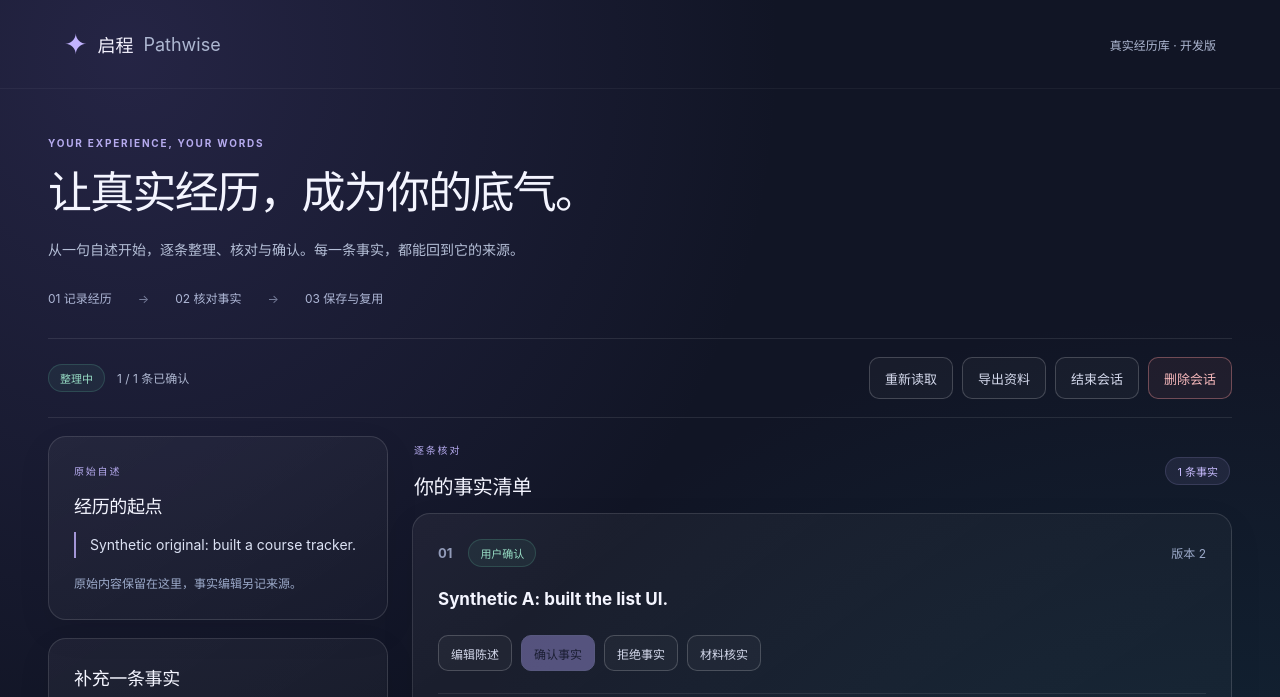
Scenario: experience workspace with recorded FastAPI contracts › requires separate confirmation after editing and traces the new source
Click the button "编辑陈述" at (475, 653), box [438,635,512,671]
(page scrolled)
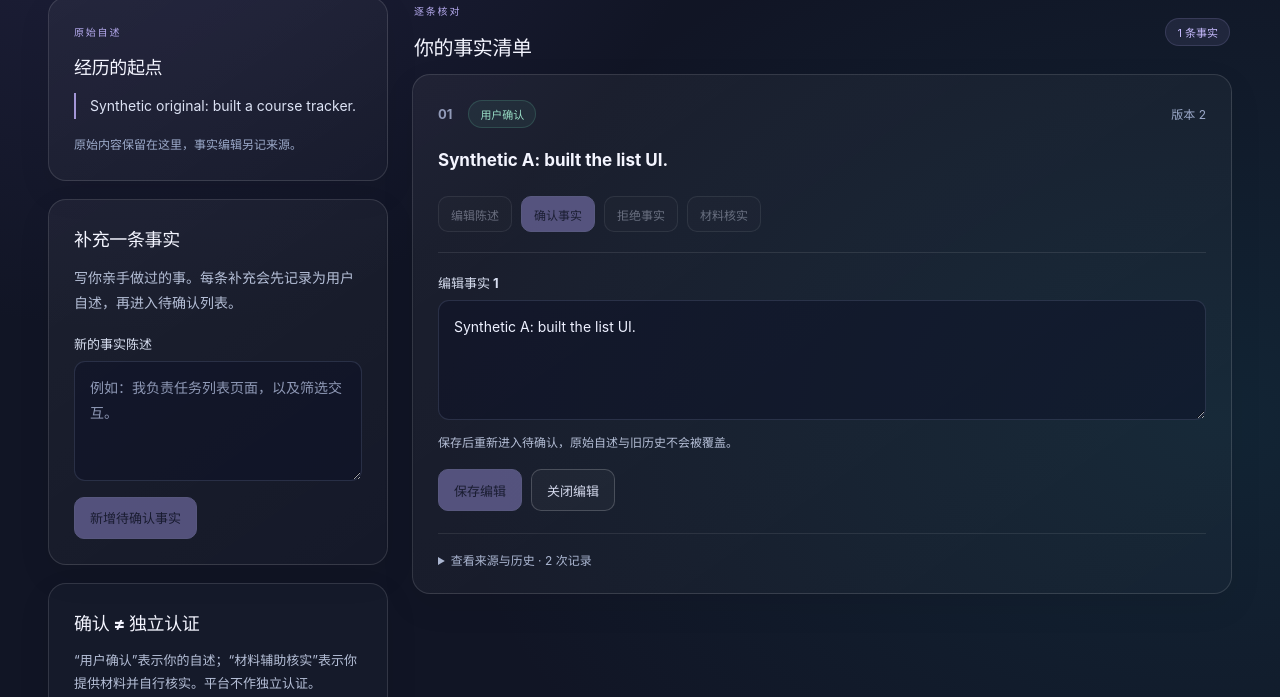
Replace the text in the text box labelled "编辑事实 1" with "Synthetic B: built the deployment script." at (822, 360), box [438,300,1206,420]
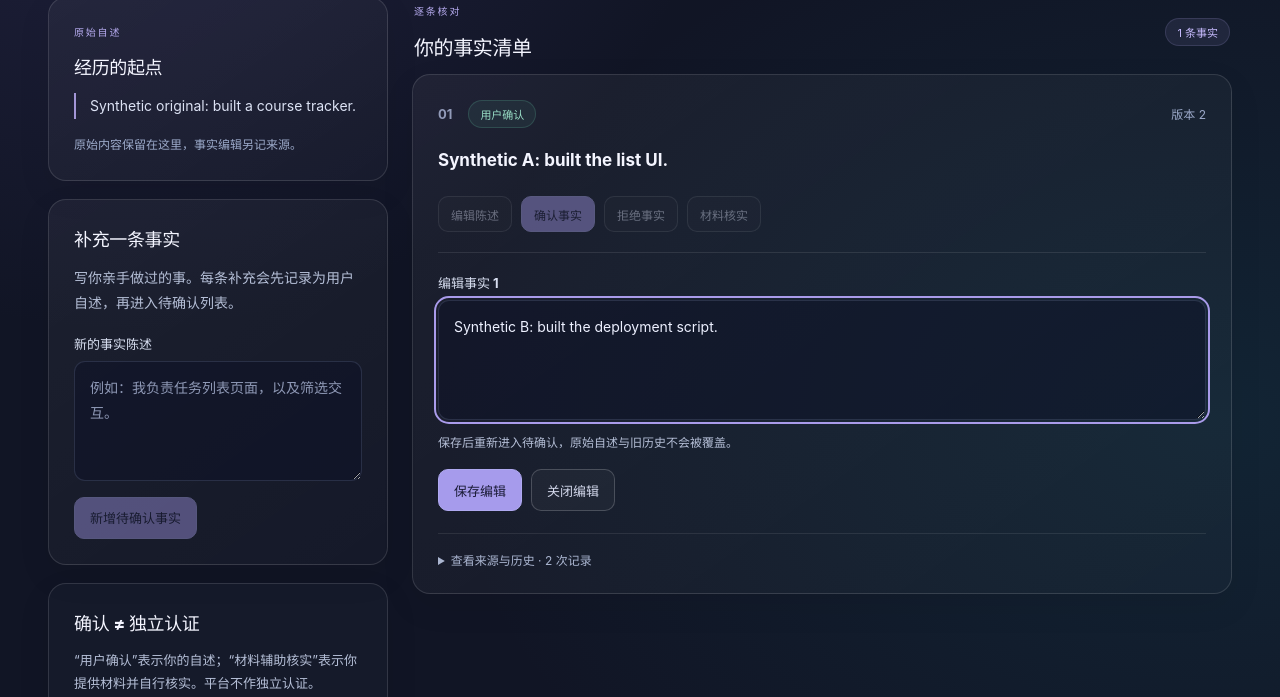
Check: the button "确认事实" is disabled, box [521,196,595,232]
Click the button "保存编辑" at (480, 490), box [438,469,522,511]
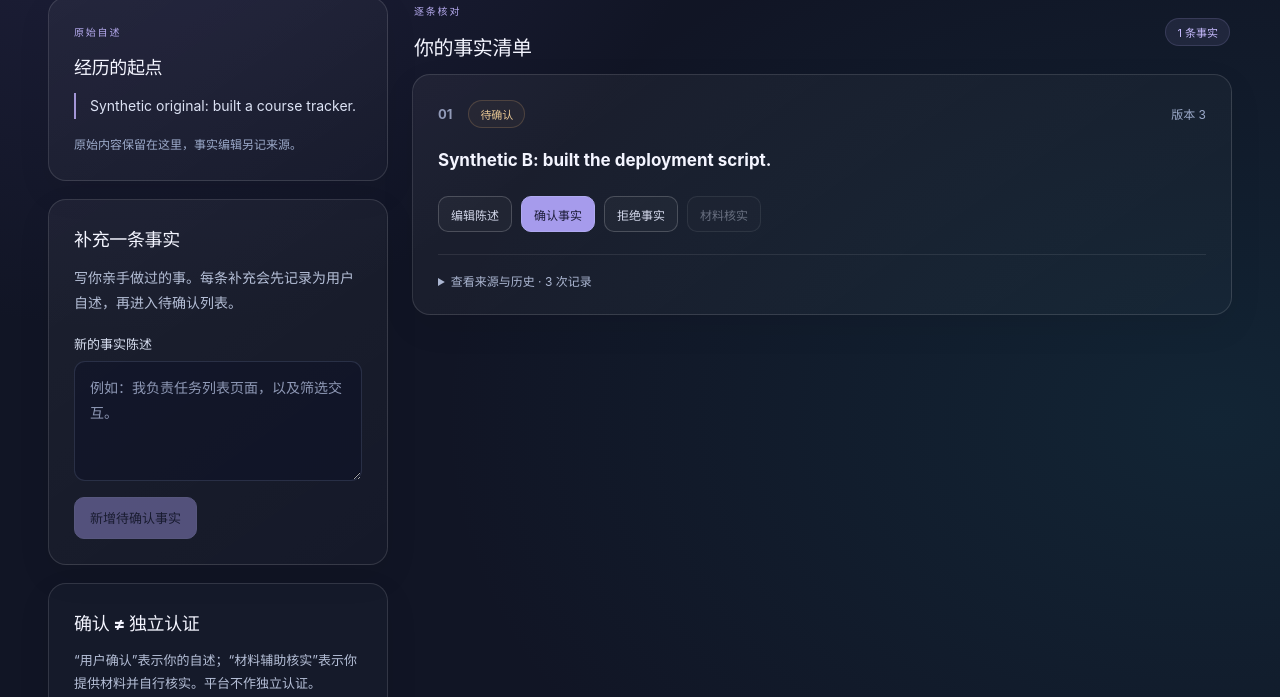
Check: the label labelled "编辑事实 1" is gone
Check: the text "待确认" is shown, box [468,100,525,128]
Click the button "确认事实" at (558, 214), box [521,196,595,232]
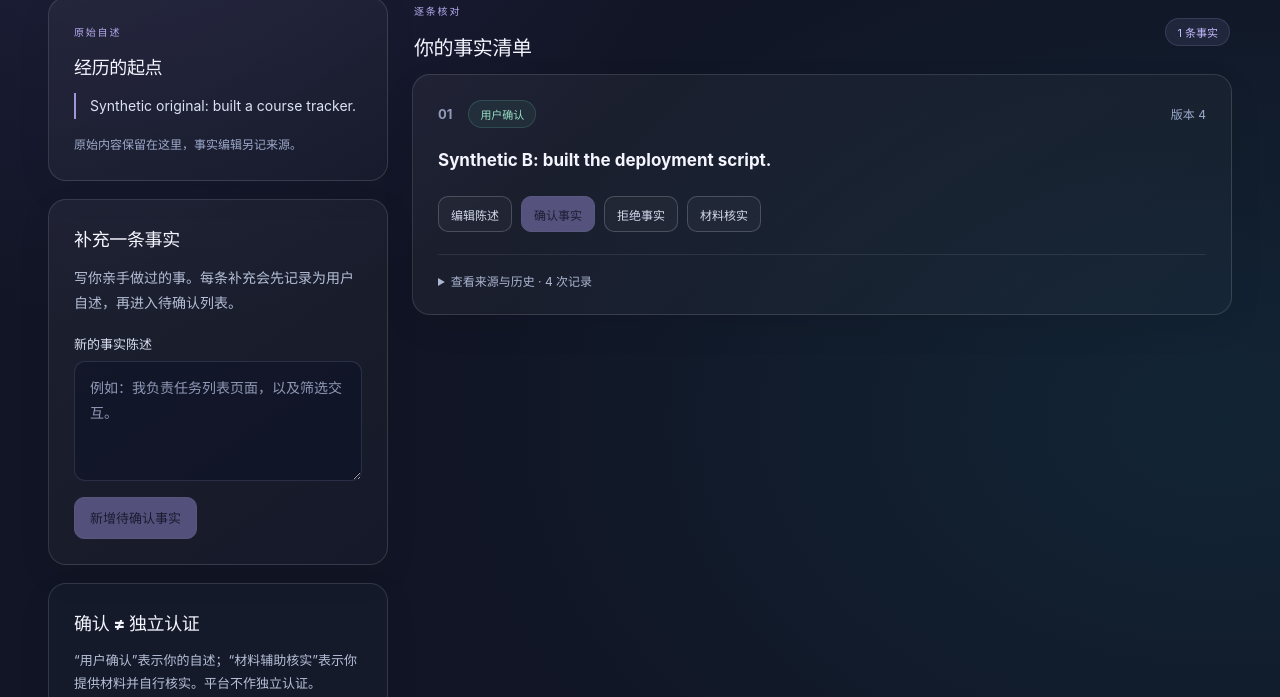
Check: the text "用户确认" is shown, box [468,100,536,128]
Click the heading "查看来源与历史 · 4 次记录" at (521, 282), box [451,274,592,289]
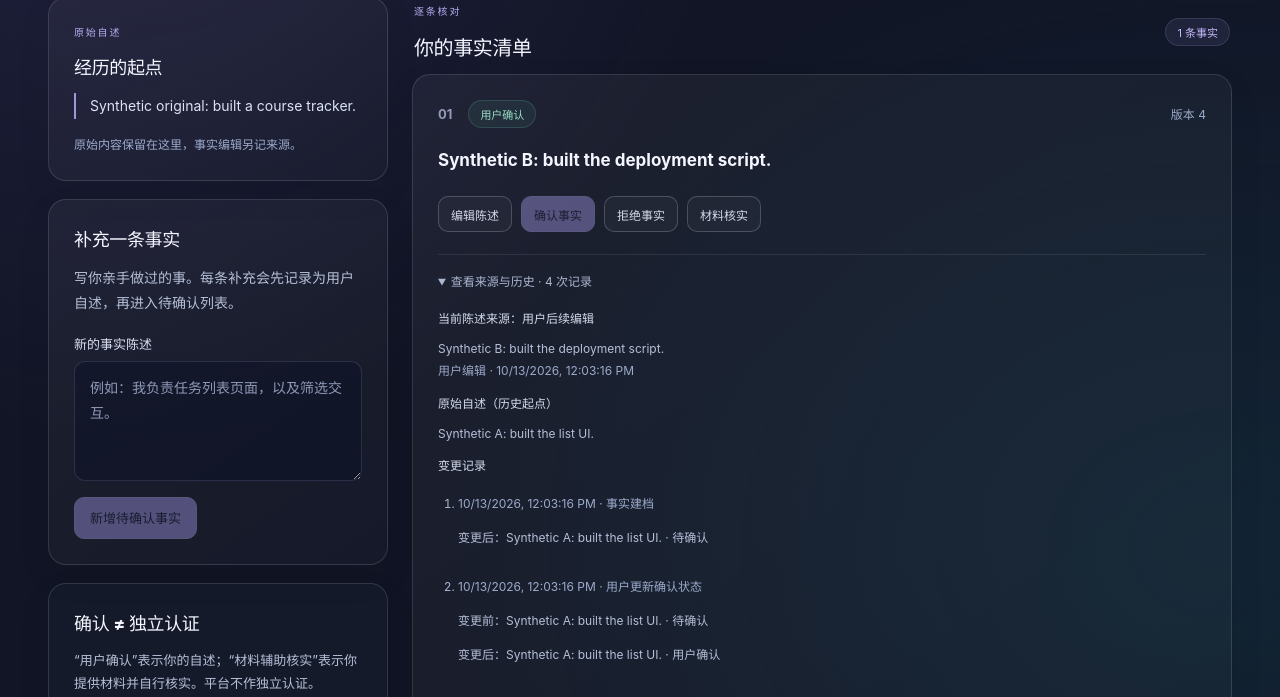
Check: the text "当前陈述来源：用户后续编辑" is shown, box [438,311,594,326]
Check: the text "原始自述（历史起点）" is shown, box [438,396,558,411]
Check: the text "Synthetic A: built the list UI." is shown, box [438,426,594,441]
